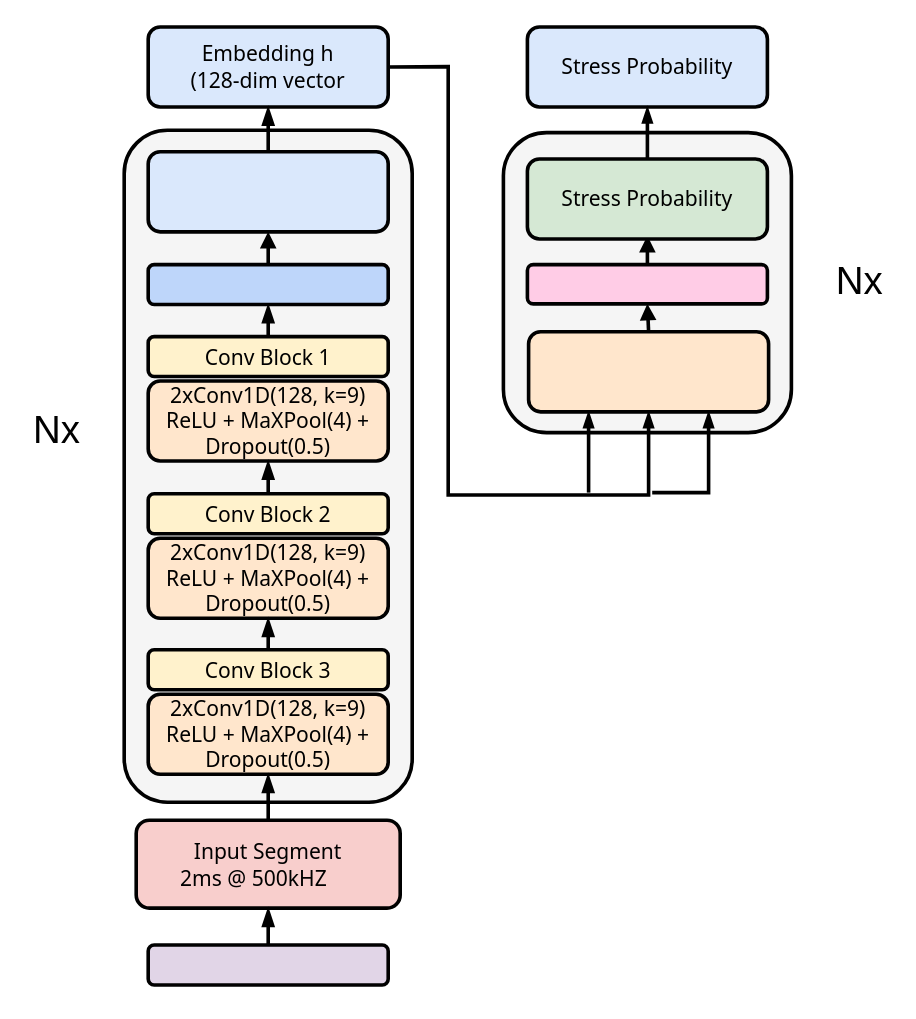
Image size: 916x1019. Some labels were removed from this diagram. The shapes that lost their labels are listed below. From the top down, each one's centre as x and y in pixels, then its label:
the point at 267,191: Dense(128) + ReLU Dropout(0.5)
the point at 267,284: Flatten
the point at 647,283: Main Classifier
the point at 648,371: Multi-Head Architecture
the point at 267,964: Inputs
